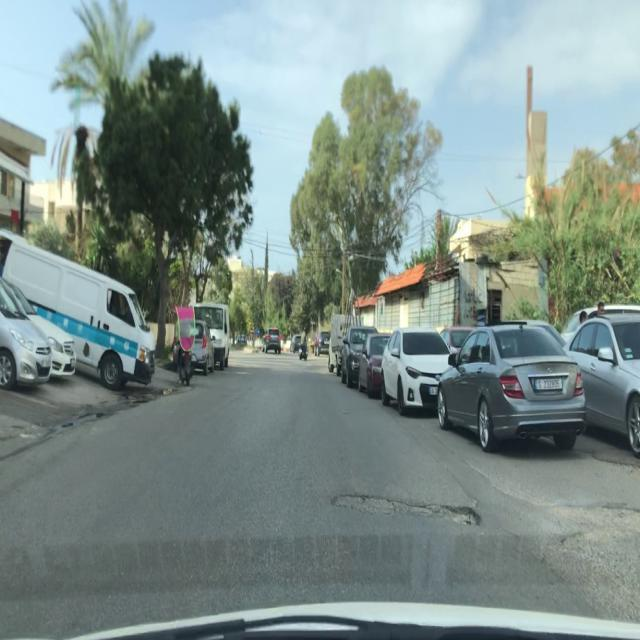pothole: (330, 489, 484, 533)
